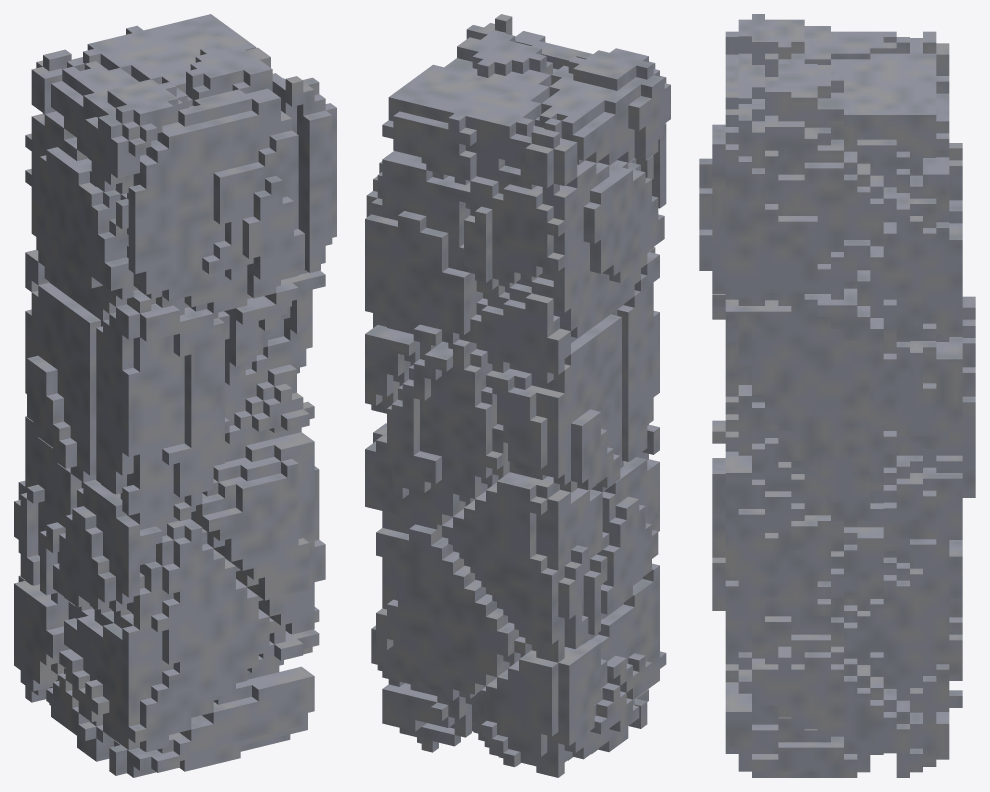
Rendered from Model_RockPillar.fbx.
3 renders of one model, left to right at view 1: azimuth 30°, elevation 25°; view 2: azimuth 150°, elevation 25°; view 3: azimuth 270°, elevation 25°, orthographic. The views are drawn at different scales.
Parts seen in each view (by area): view 1: In.001; view 2: In.001; view 3: In.001.
Part boxes in pixels (box(x1,y1,x2,y2)): In.001: box(14, 14, 336, 777); In.001: box(365, 14, 670, 777); In.001: box(699, 14, 975, 777).
Size of the model in its own units: 101 by 304 by 112.
